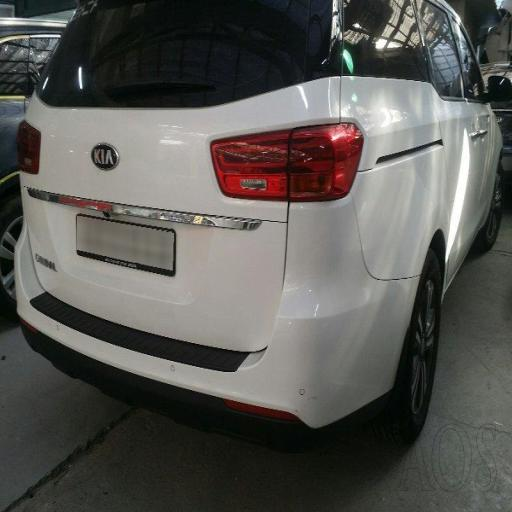dent: (373, 241, 428, 321)
scratch: (269, 222, 358, 428)
